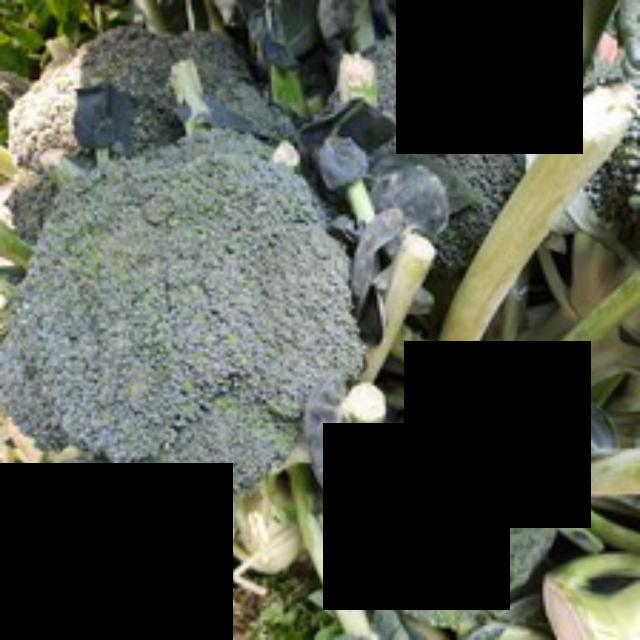broccoli: (13, 128, 374, 486)
